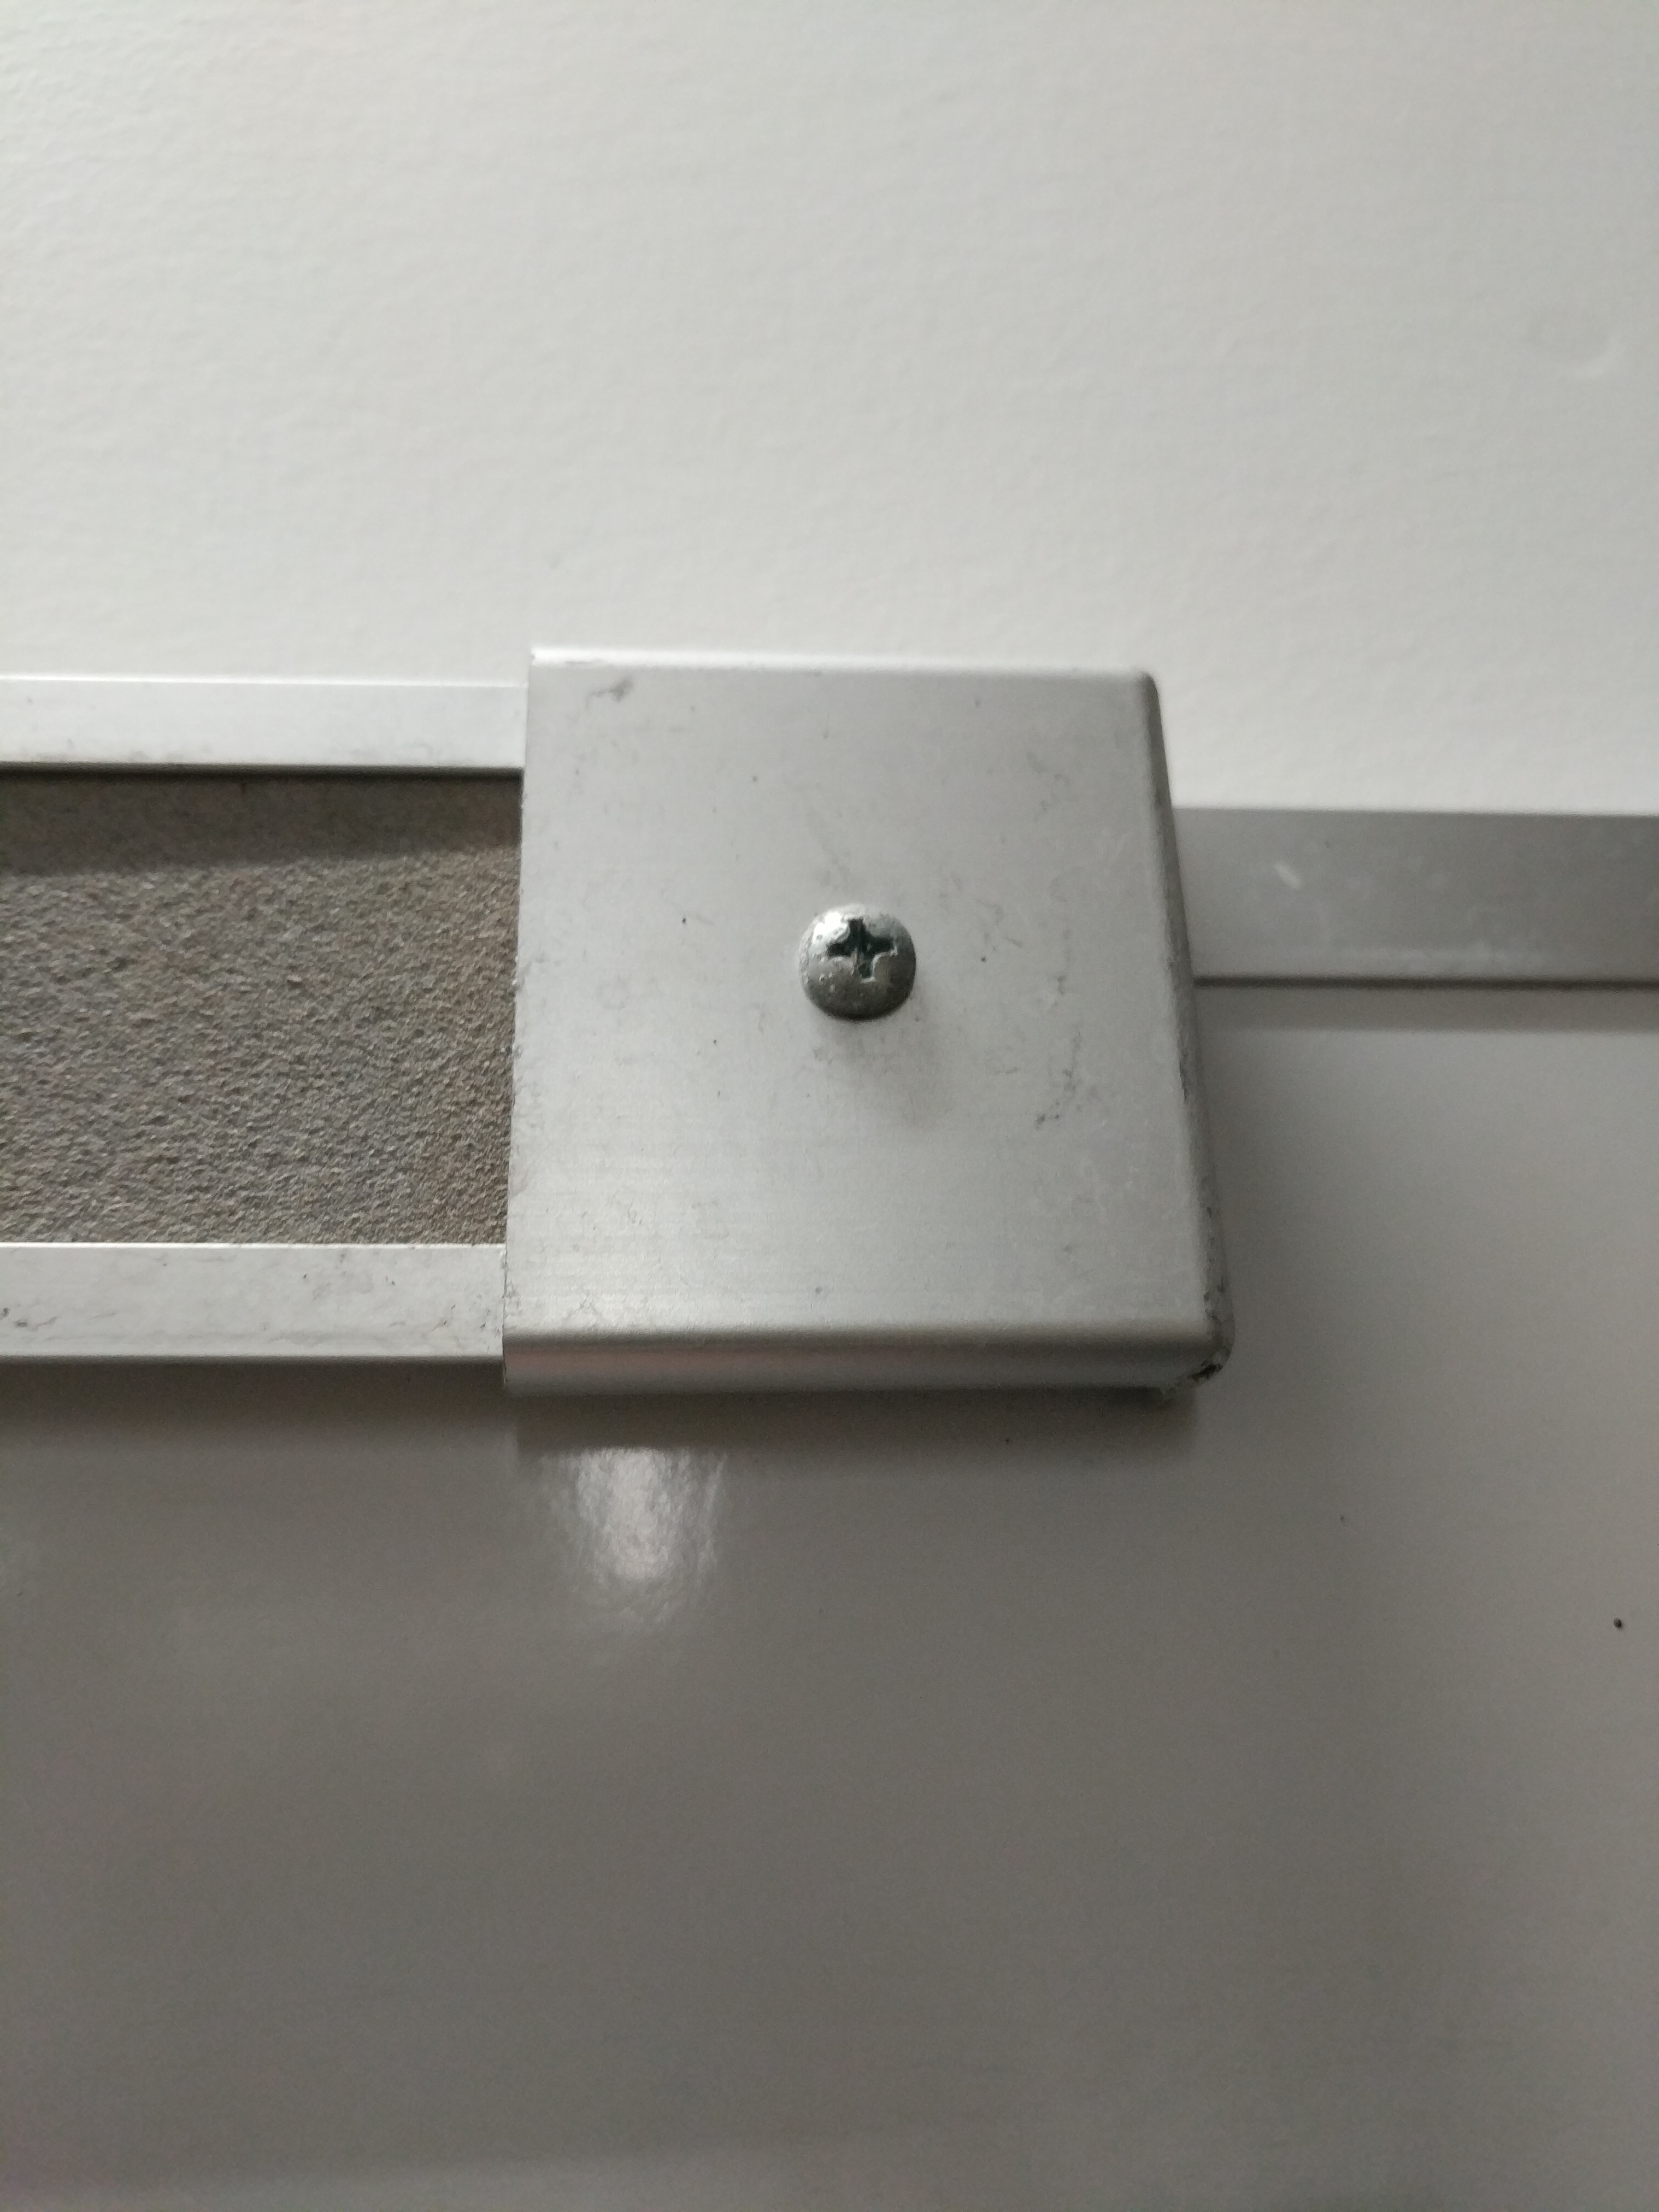cross_recessed_screw: (793, 878, 932, 1026)
